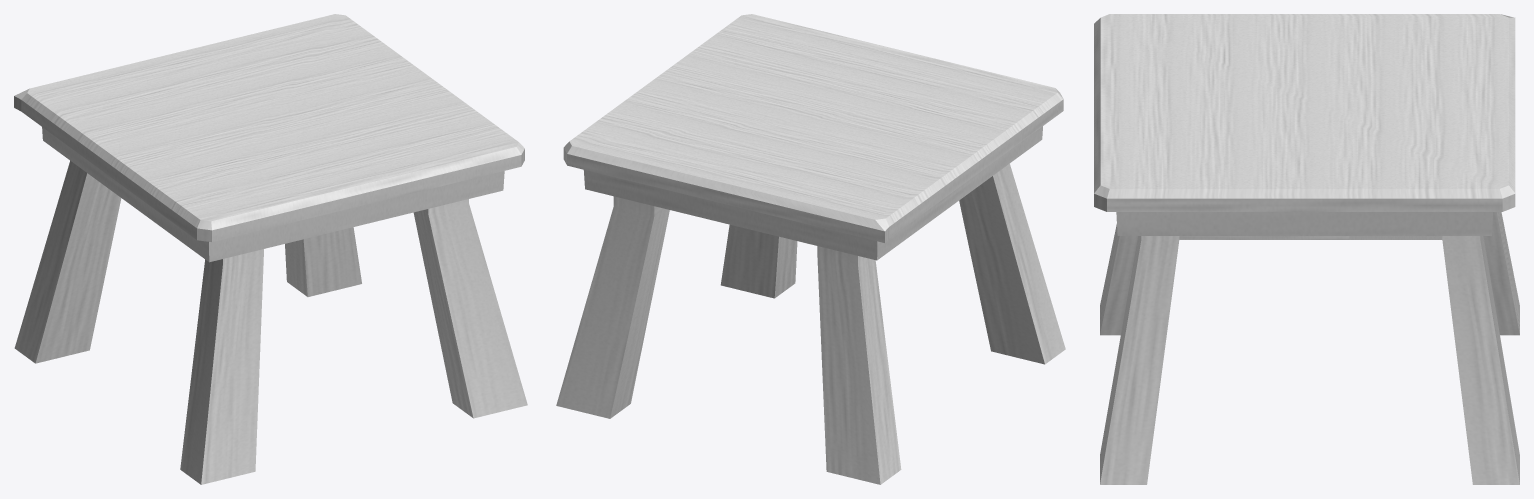
Rendered from Stool_B.FBX.
3 renders of one model, left to right at view 1: azimuth 30°, elevation 25°; view 2: azimuth 150°, elevation 25°; view 3: azimuth 270°, elevation 25°, orthographic. The views are drawn at different scales.
Visible parts, largest first — view 1: Stool; view 2: Stool; view 3: Stool.
Part boxes in pixels (x1,y1,x2,y2): Stool: (14, 14, 527, 484); Stool: (556, 14, 1065, 484); Stool: (1094, 14, 1519, 484).
Size of the model in its own units: 121 by 91.5 by 120.
